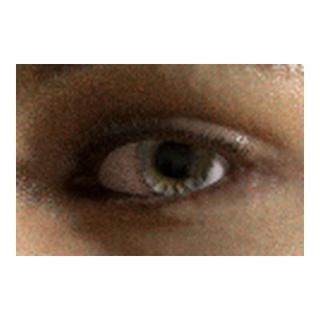pupil: (155, 139, 194, 178)
